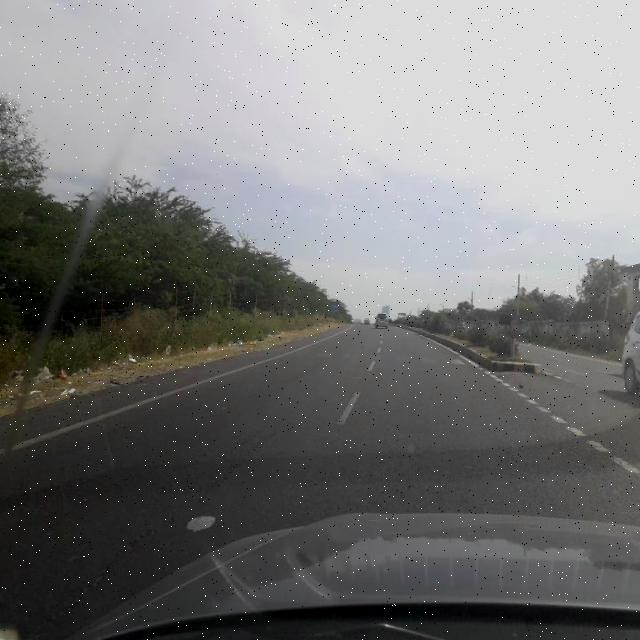D00: (38, 418, 278, 628)
D43: (287, 343, 469, 374)
